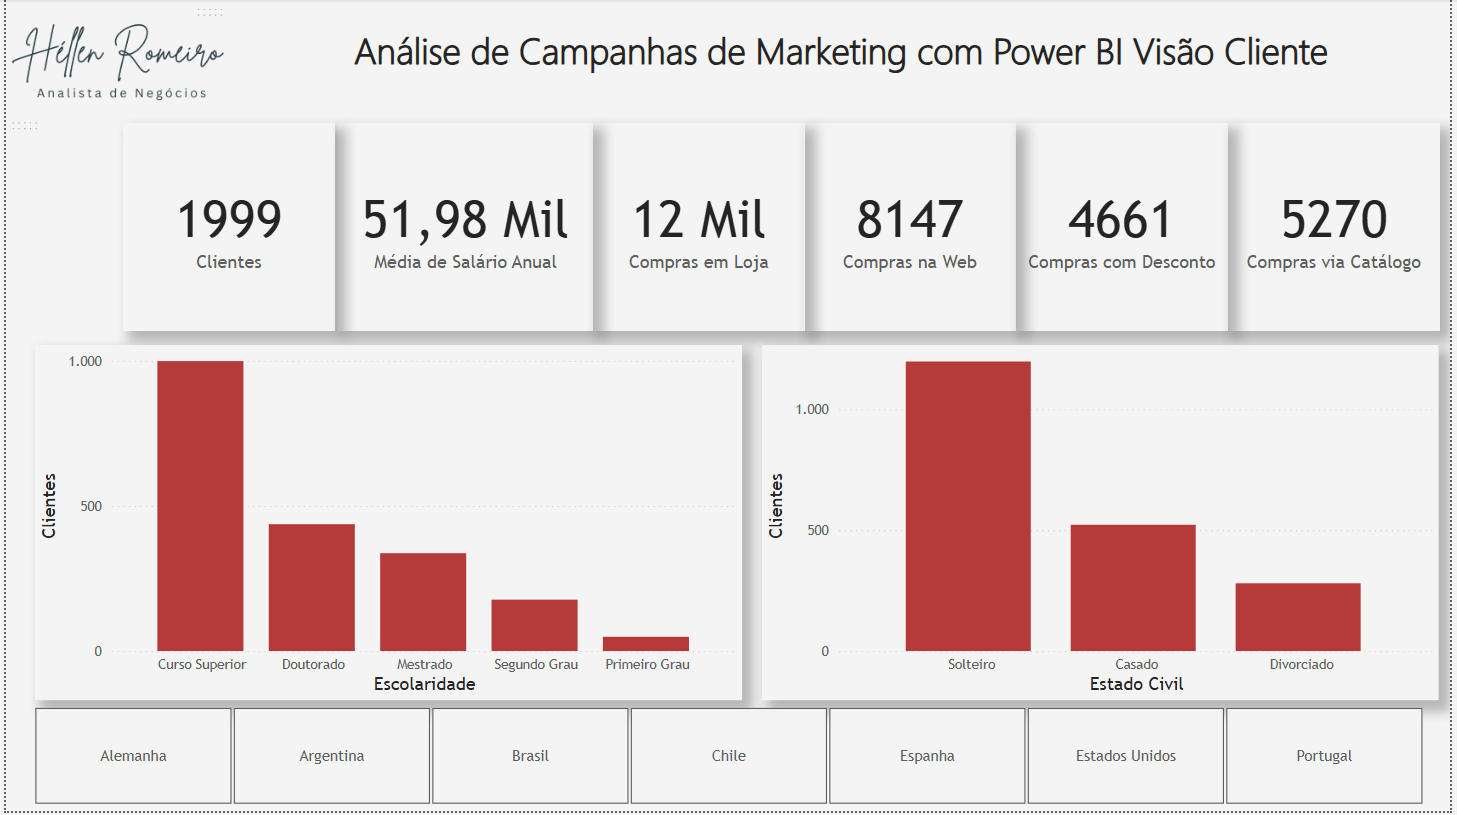

The dashboard page shown, as its layout file describes it:
{"tool":"powerbi","page":{"name":"Visão Cliente","canvas":[1280,720],"ordinal":0},"visuals":[{"type":"card","fields":{"Values":["CountNonNull(dados_marketing.ID)"]},"box":[103.8,110,187.8,184.1],"z":0},{"type":"card","fields":{"Values":["Avg(dados_marketing.Salario Anual)"]},"box":[294.1,110,226.1,184.1],"z":1000},{"type":"card","fields":{"Values":["Sum(dados_marketing.Numero de Compras na Loja)"]},"box":[520.2,110,187.8,184.1],"z":2000},{"type":"card","fields":{"Values":["Sum(dados_marketing.Numero de Compras na Web)"]},"box":[708,110,187.8,184.1],"z":3000},{"type":"card","fields":{"Values":["Sum(dados_marketing.Numero de Compras com Desconto)"]},"box":[895.8,110,187.8,184.1],"z":4000},{"type":"card","fields":{"Values":["Sum(dados_marketing.Numero de Compras via Catalogo)"]},"box":[1083.6,110,187.8,184.1],"z":5000},{"type":"textbox","box":[200.2,17.3,1079.8,58.1],"z":6000},{"type":"image","box":[0,0,197.7,123.6],"z":7000},{"type":"clusteredColumnChart","fields":{"Category":["dados_marketing.Escolaridade"],"Y":["CountNonNull(dados_marketing.ID)"]},"box":[25.8,306.5,627.1,315.3],"z":8000},{"type":"clusteredColumnChart","fields":{"Category":["dados_marketing.Estado Civil"],"Y":["CountNonNull(dados_marketing.ID)"]},"box":[670.6,306.5,600.5,315.3],"z":9000},{"type":"slicer","fields":{"Values":["dados_marketing.Pais"]},"box":[0,621.5,1280,98.8],"z":10000}]}

Visuals, with their boxes in screenshot pixels (x1, y1, x2, y2), scaled from the page's 1280x720 canvas onto the 1457x815 screenshot:
card - CountNonNull(dados_marketing.ID): box=[118, 125, 332, 333]
card - Avg(dados_marketing.Salario Anual): box=[335, 125, 592, 333]
card - Sum(dados_marketing.Numero de Compras na Loja): box=[592, 125, 806, 333]
card - Sum(dados_marketing.Numero de Compras na Web): box=[806, 125, 1020, 333]
card - Sum(dados_marketing.Numero de Compras com Desconto): box=[1020, 125, 1233, 333]
card - Sum(dados_marketing.Numero de Compras via Catalogo): box=[1233, 125, 1447, 333]
textbox: box=[228, 20, 1456, 85]
image: box=[0, 0, 225, 140]
clusteredColumnChart - dados_marketing.Escolaridade x CountNonNull(dados_marketing.ID): box=[29, 347, 743, 704]
clusteredColumnChart - dados_marketing.Estado Civil x CountNonNull(dados_marketing.ID): box=[763, 347, 1447, 704]
slicer - dados_marketing.Pais: box=[0, 704, 1456, 814]
